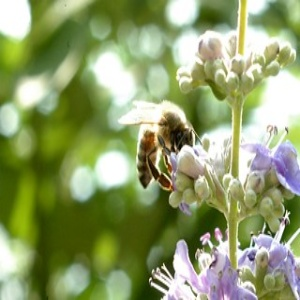bee: (118, 99, 206, 201)
